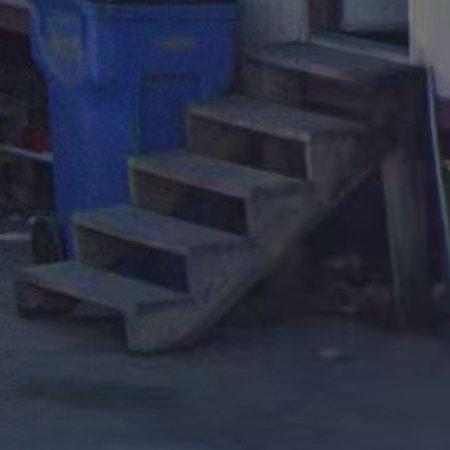stairs: (21, 43, 433, 352)
